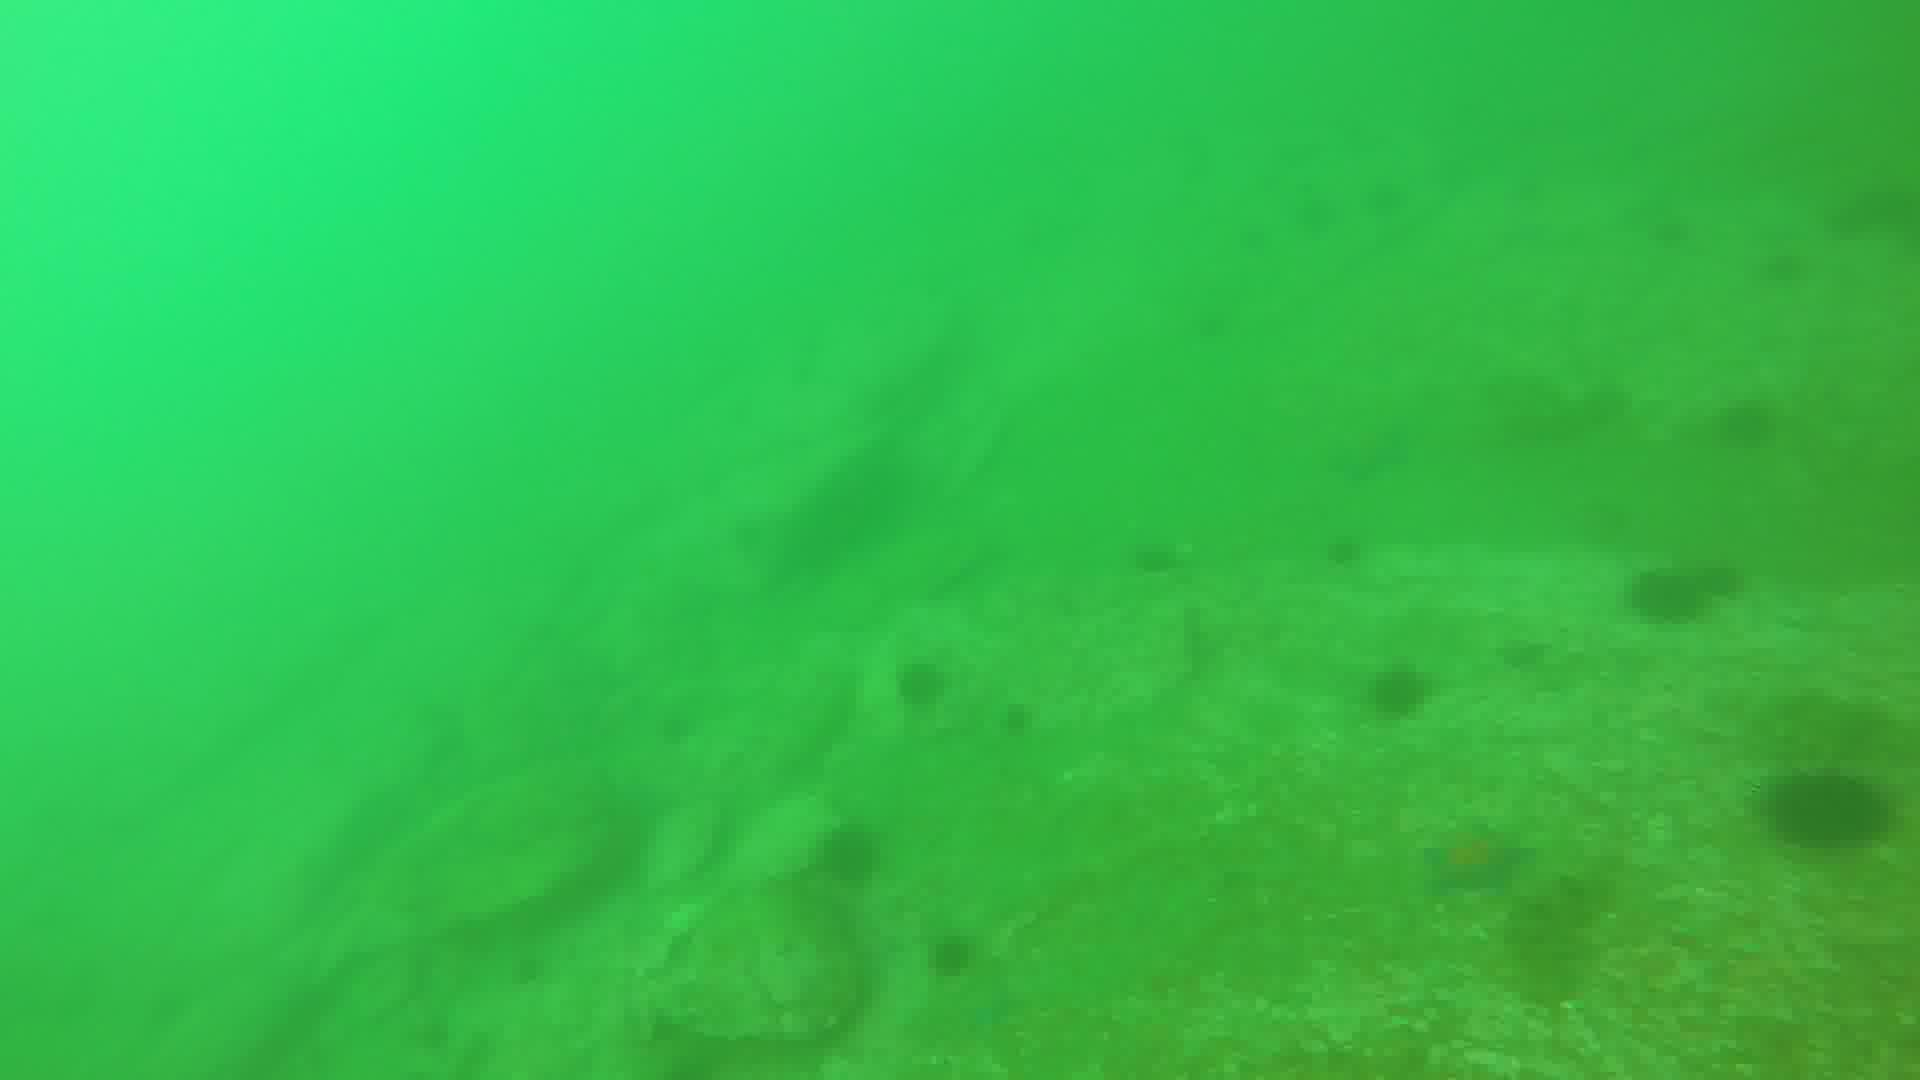echinus: (1762, 769, 1895, 861), (1633, 564, 1704, 632), (820, 825, 885, 885), (1727, 392, 1782, 462), (1685, 554, 1755, 607), (1828, 196, 1904, 240), (1379, 666, 1437, 719), (934, 934, 978, 988), (1333, 527, 1381, 575), (897, 666, 949, 708), (1658, 204, 1702, 251), (1143, 535, 1184, 580), (1774, 251, 1815, 287)
holothurian: (1497, 865, 1619, 1011)
starfish: (1427, 827, 1527, 891)
